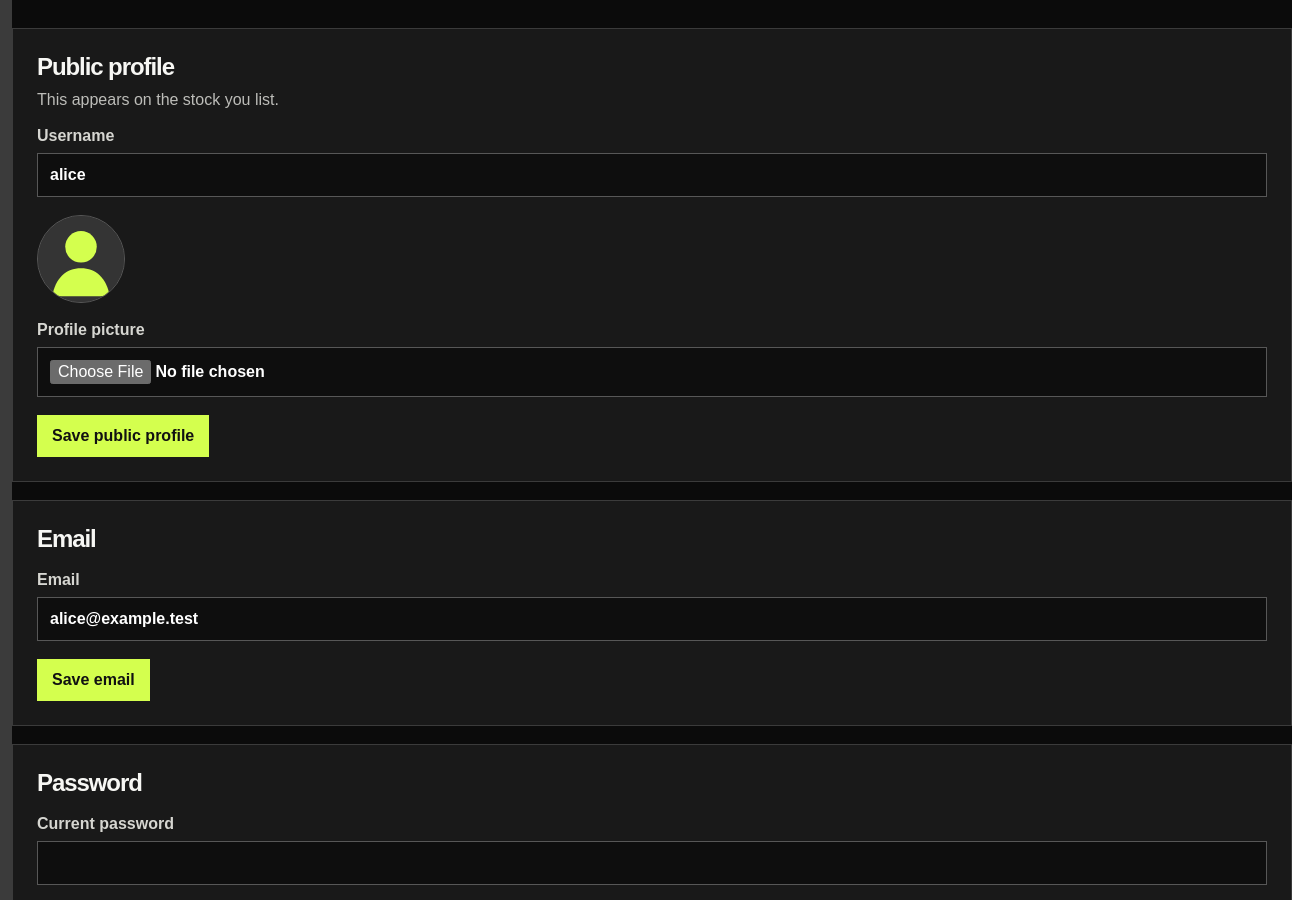
Test: ProfileForm › does not claim an email request saved an address
Replace the text in the field labelled "Email" with "taken@example.test" at [652, 619], box [37,597,1267,641]
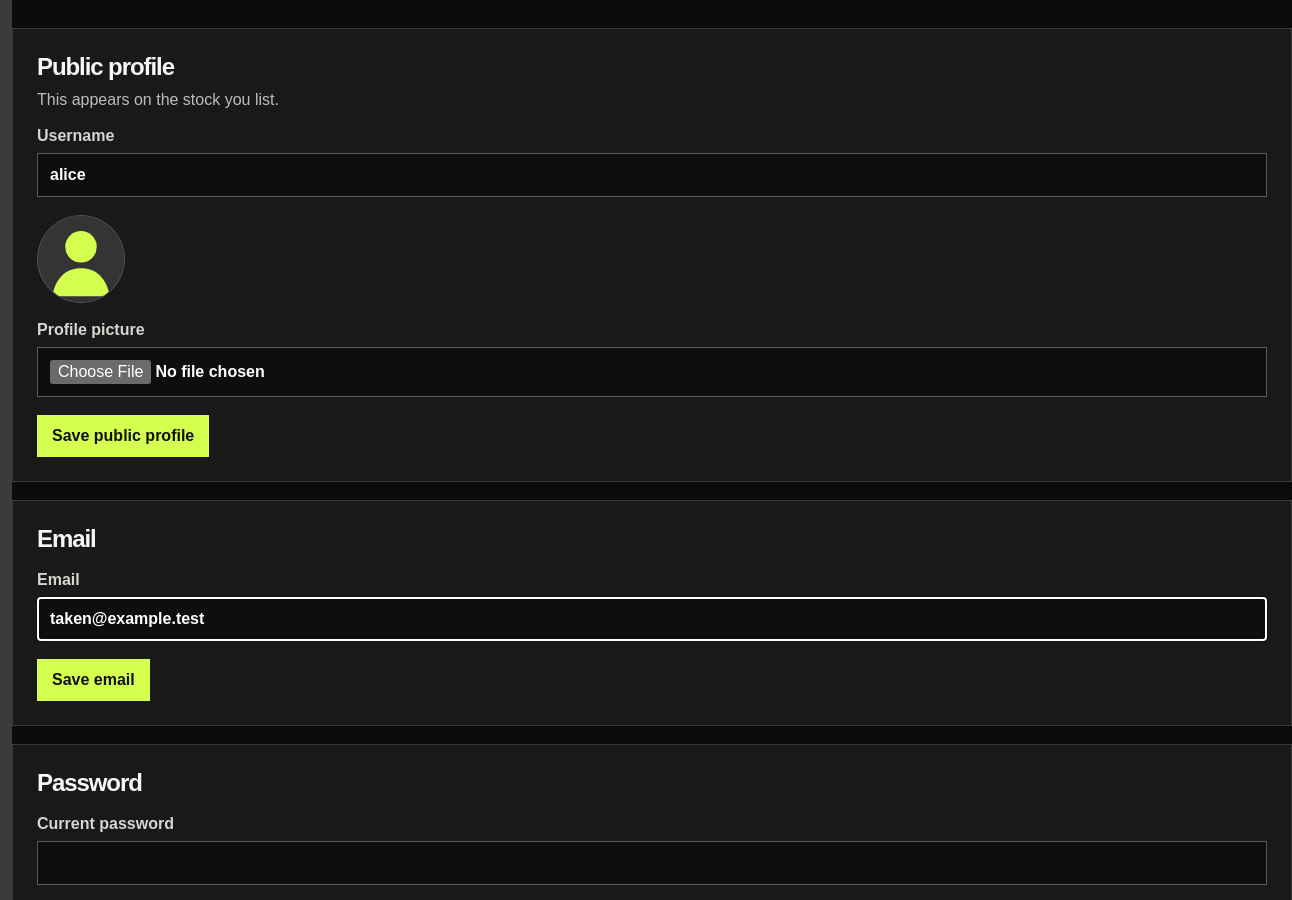
Click the button "Save email" at [93, 680], box [37,659,150,701]
(page scrolled)
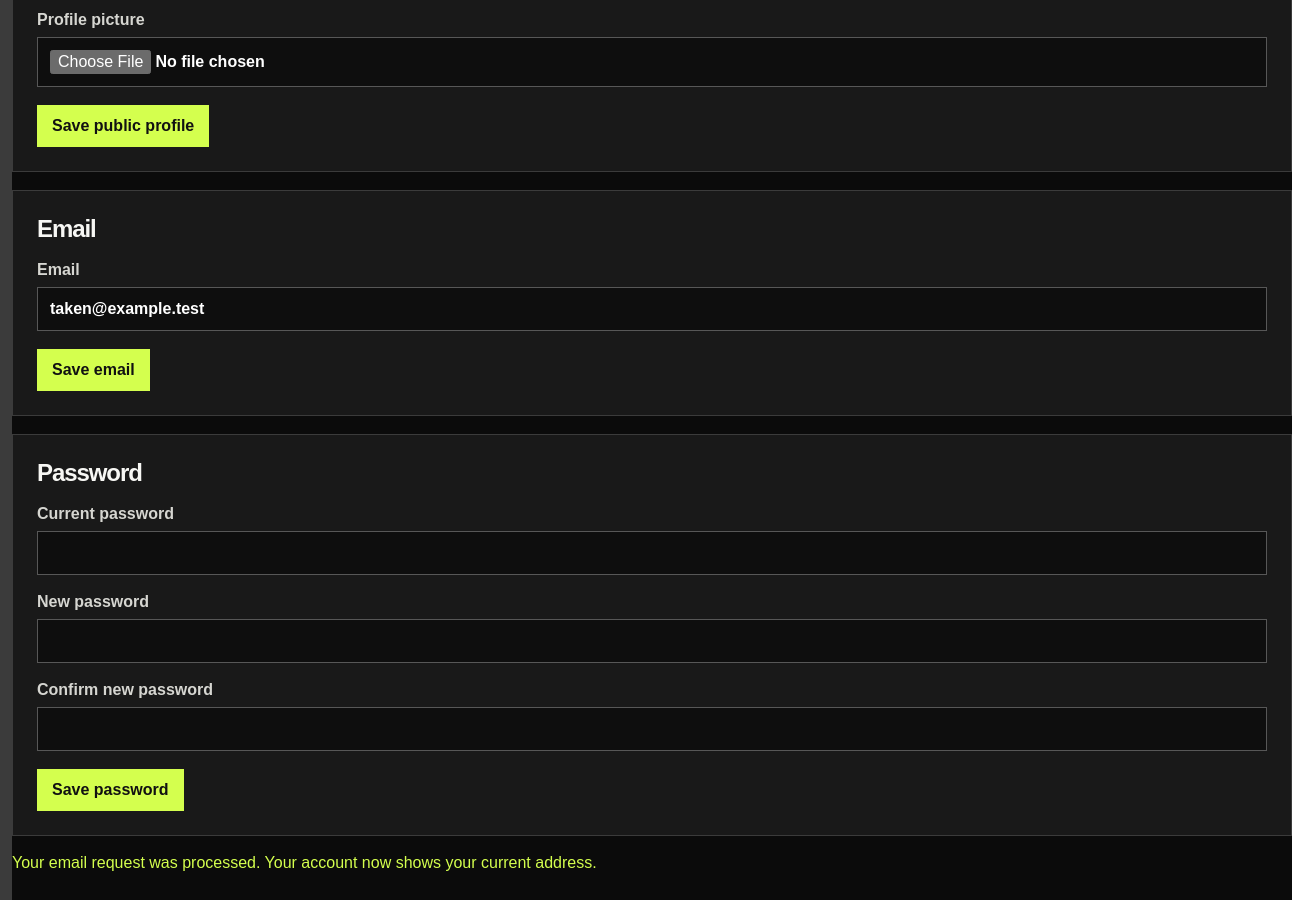
Expected: the message reads "Your email request was processed. Your account now shows your current address.", [12,854,597,871]
